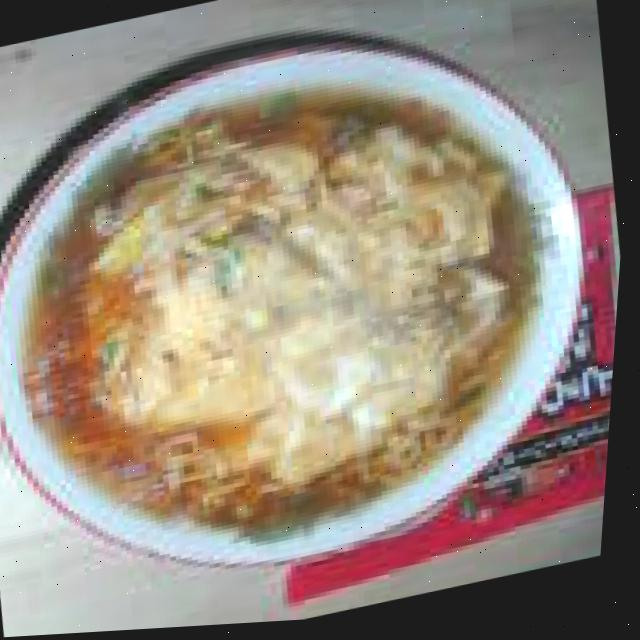面条主食: (0, 37, 611, 593)
